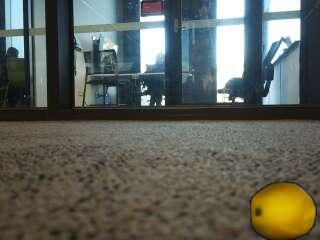lemon: (252, 183, 316, 240)
